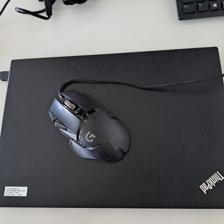mouse: (46, 87, 131, 164)
